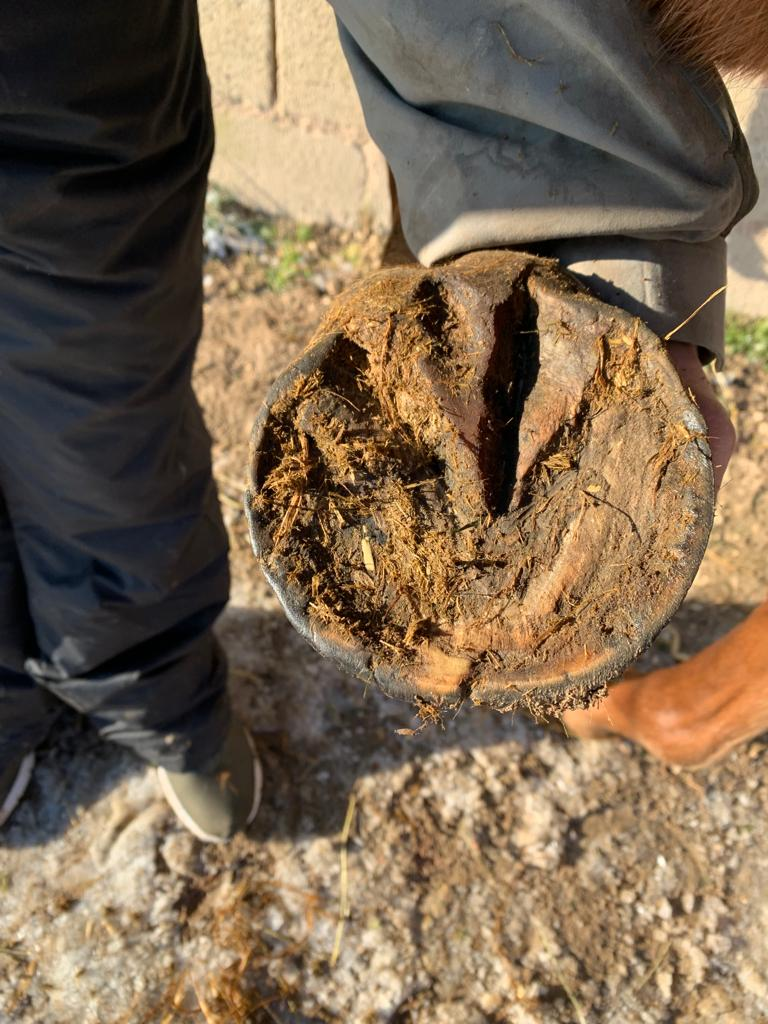horsesole: (243, 273, 719, 707)
